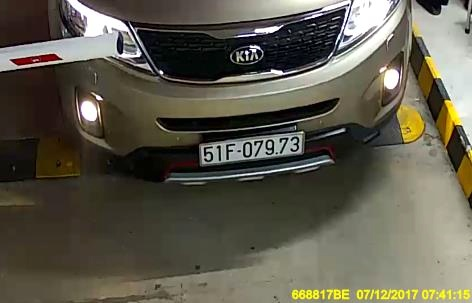plate: (196, 133, 306, 168)
